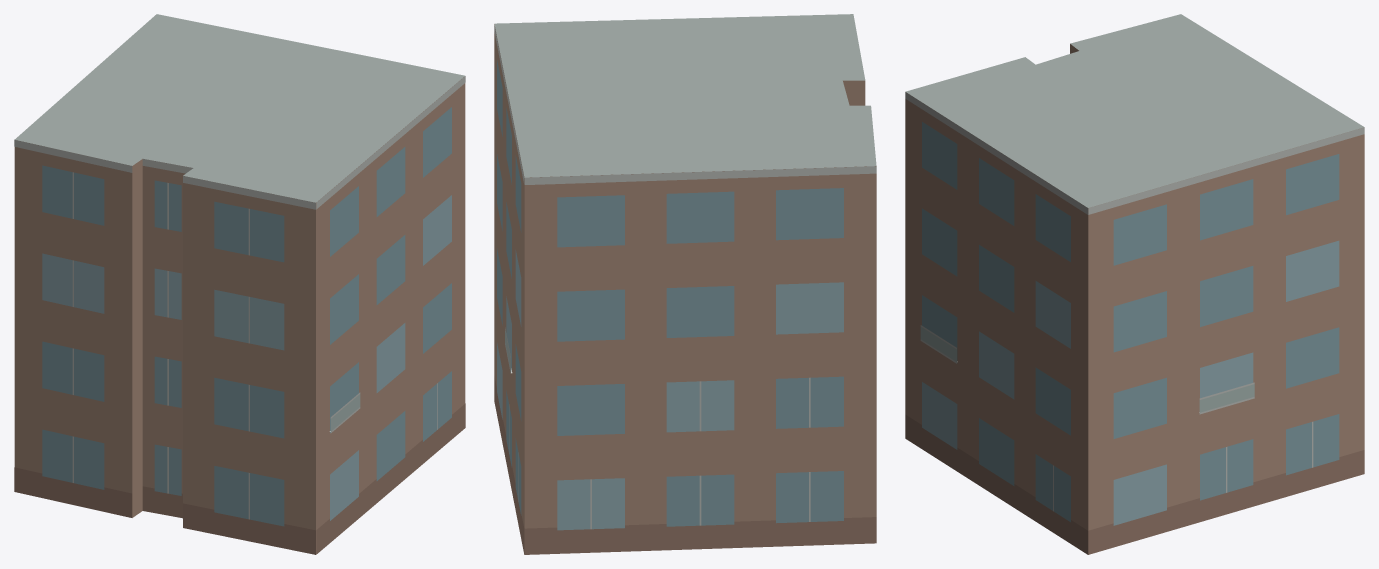
File: survey-upis-32739297.glb
3 renders of one model, left to right at view 1: azimuth 30°, elevation 25°; view 2: azimuth 150°, elevation 25°; view 3: azimuth 270°, elevation 25°, orthographic. The views are drawn at different scales.
Parts seen in each view (by area): view 1: survey-upis-32739297.tmp; view 2: survey-upis-32739297.tmp; view 3: survey-upis-32739297.tmp.
Part boxes in pixels (left/top/right/bottom): survey-upis-32739297.tmp: left=14, top=14, right=465, bottom=554; survey-upis-32739297.tmp: left=494, top=14, right=876, bottom=554; survey-upis-32739297.tmp: left=905, top=14, right=1364, bottom=554.
Size of the model in its own units: 14.65 by 12.2 by 14.66.
